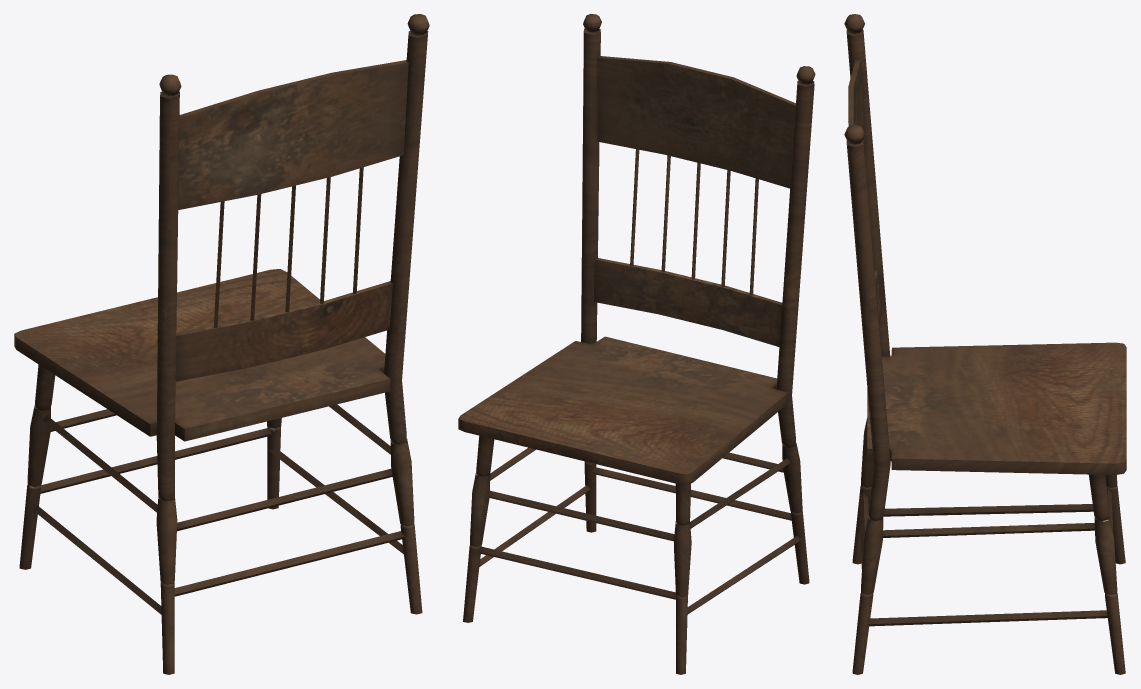
Rendered from old_wooden_chair.glb.
3 views of the same model, side by side, from view 1: azimuth 30°, elevation 25°; view 2: azimuth 150°, elevation 25°; view 3: azimuth 270°, elevation 25° (orthographic). The views are drawn at different scales.
Parts seen in each view (by area): view 1: Object_2; view 2: Object_2; view 3: Object_2.
Part boxes in pixels (x1=…): Object_2: x1=14, y1=14, x2=429, y2=674; Object_2: x1=458, y1=14, x2=815, y2=674; Object_2: x1=844, y1=14, x2=1126, y2=674.
Bounding box in the file's own units: 67.87 × 144 × 67.14.
1 material, 1 textured.
